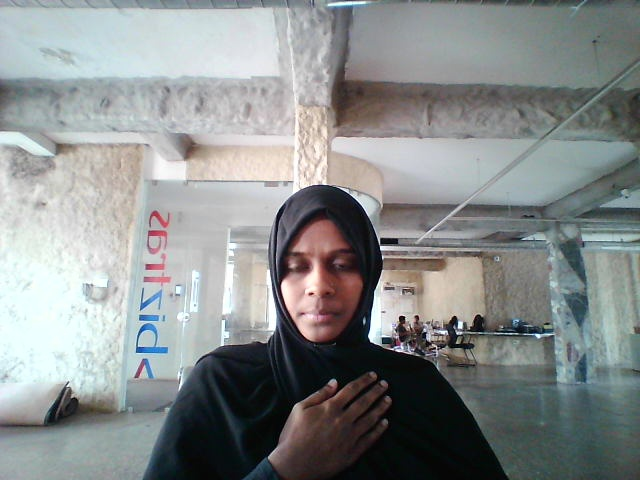PLEASE: (277, 360, 409, 478)
